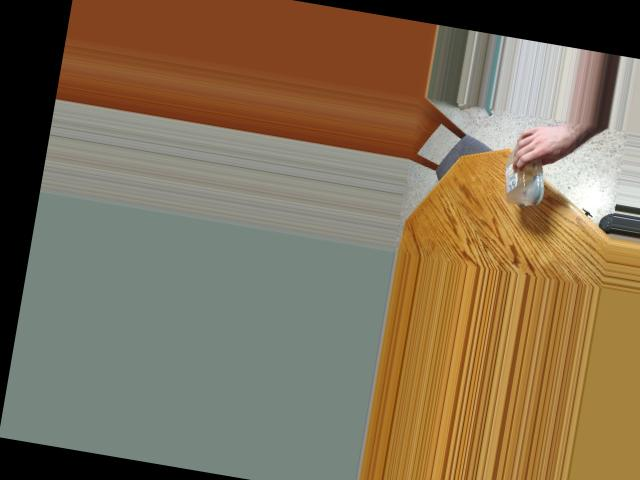cheese: (500, 137, 556, 197)
